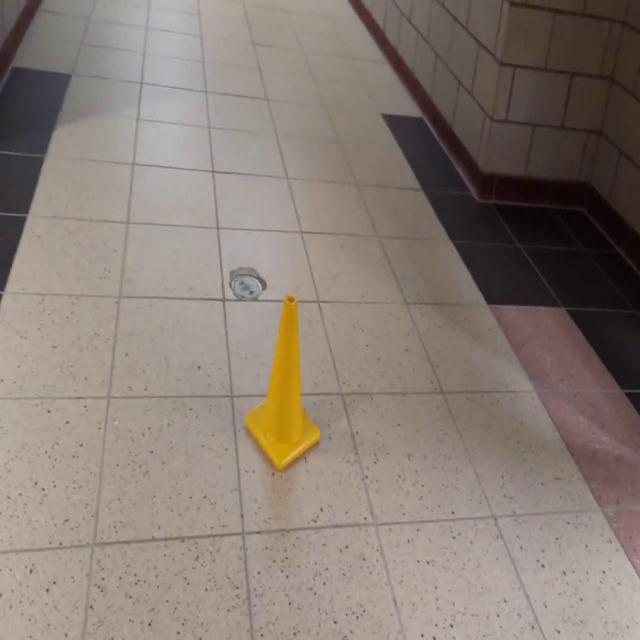frc_cone: (244, 294, 322, 472)
